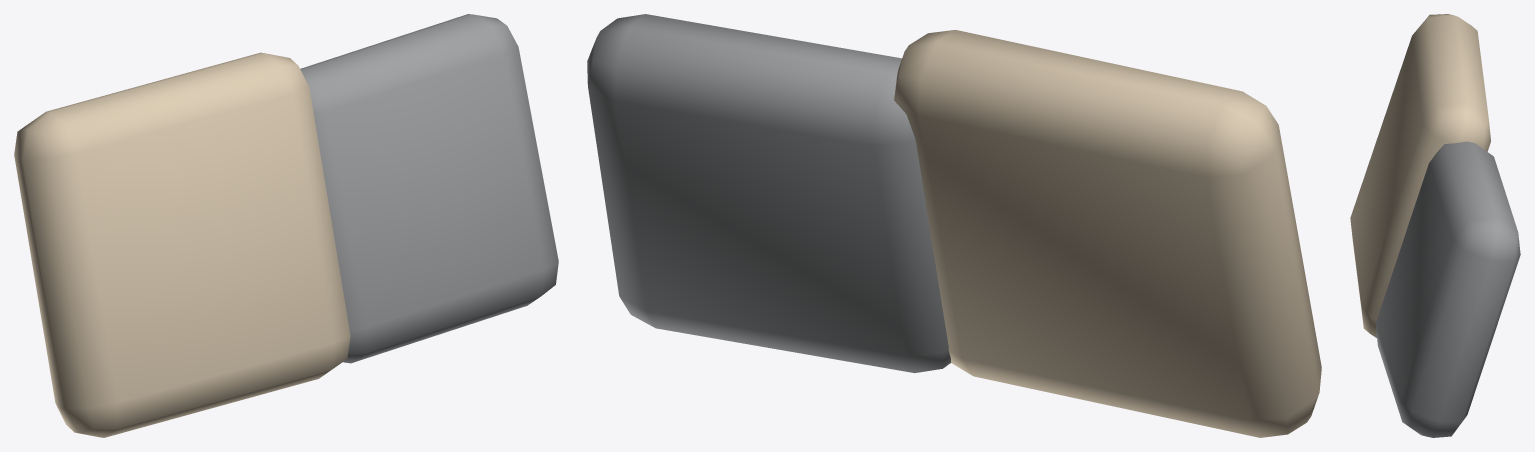
The model's file is i_pillows_1.glb.
3 views of the same model, side by side, from view 1: azimuth 30°, elevation 25°; view 2: azimuth 150°, elevation 25°; view 3: azimuth 270°, elevation 25° (orthographic). The views are drawn at different scales.
Visible parts, largest first — view 1: o, o.001; view 2: o, o.001; view 3: o.001, o.
Part boxes in pixels (x1=…): o: x1=14, y1=52, x2=350, y2=437; o.001: x1=300, y1=14, x2=558, y2=363; o: x1=894, y1=30, x2=1321, y2=437; o.001: x1=587, y1=14, x2=951, y2=373; o.001: x1=1375, y1=141, x2=1520, y2=437; o: x1=1350, y1=14, x2=1490, y2=337.
Size of the model in its own units: 0.9033 by 0.4823 by 0.311.
